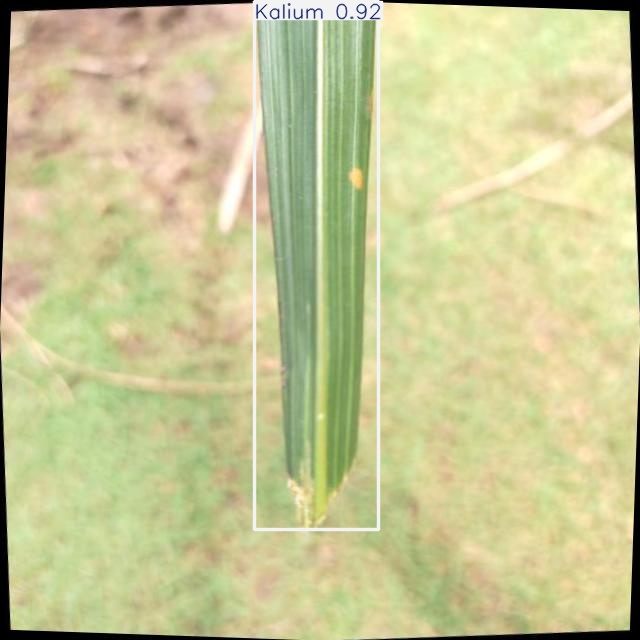Kalium: (255, 1, 378, 530)
